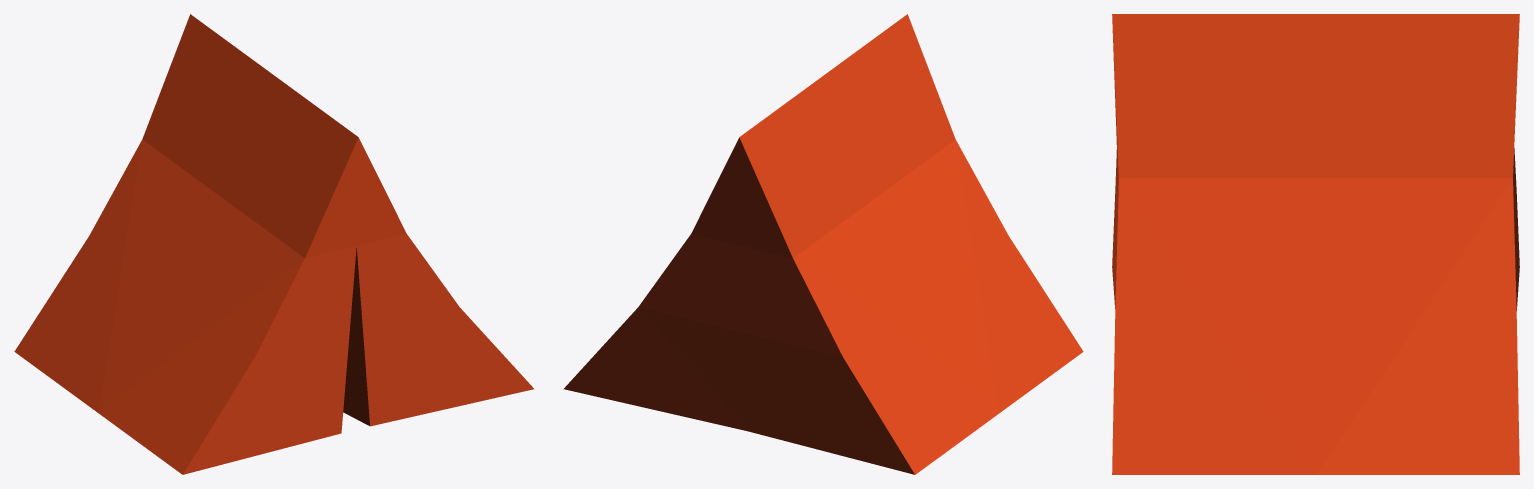
File: tent_02.fbx
3 views of the same model, side by side, from view 1: azimuth 30°, elevation 25°; view 2: azimuth 150°, elevation 25°; view 3: azimuth 270°, elevation 25° (orthographic). The views are drawn at different scales.
Visible parts, largest first — view 1: tent_02; view 2: tent_02; view 3: tent_02.
Part boxes in pixels (x1,y1,x2,y2): tent_02: [14, 14, 534, 474]; tent_02: [563, 14, 1083, 474]; tent_02: [1112, 14, 1519, 474].
Size of the model in its own units: 281 by 225 by 233.
